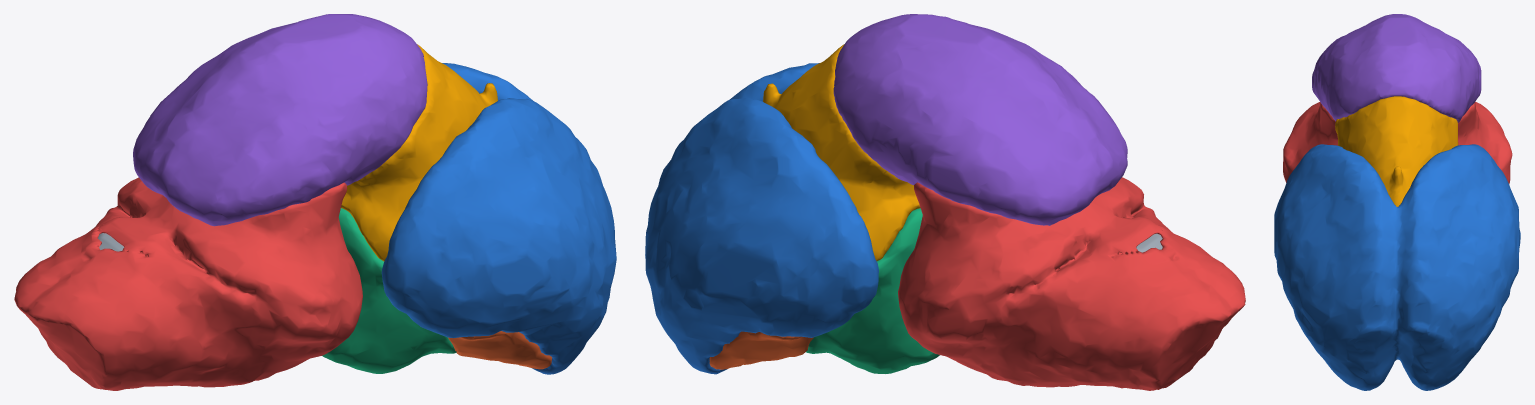
3 views of the same model, side by side, from view 1: azimuth 30°, elevation 25°; view 2: azimuth 150°, elevation 25°; view 3: azimuth 270°, elevation 25° (orthographic). The views are drawn at different scales.
Visible parts, largest first — view 1: hindbrain, pallium, midbrain, diencephalon, hypothalamus, subpallium; view 2: hindbrain, pallium, midbrain, diencephalon, hypothalamus, subpallium; view 3: pallium, midbrain, diencephalon, hindbrain.
Boxes of the visible parts, <box> form: hindbrain: <box>14,177,362,390</box>; pallium: <box>381,63,616,374</box>; midbrain: <box>133,14,427,226</box>; diencephalon: <box>341,44,497,261</box>; hypothalamus: <box>322,208,456,373</box>; subpallium: <box>448,331,551,369</box>; hindbrain: <box>898,177,1245,390</box>; pallium: <box>645,63,878,374</box>; midbrain: <box>833,14,1127,225</box>; diencephalon: <box>763,44,920,261</box>; hypothalamus: <box>806,208,939,373</box>; subpallium: <box>709,331,813,369</box>; pallium: <box>1274,144,1520,390</box>; midbrain: <box>1312,14,1481,122</box>; diencephalon: <box>1335,96,1458,206</box>; hindbrain: <box>1283,102,1512,183</box>.
Bounding box in the file's own units: 5734 × 3616 × 2889.
